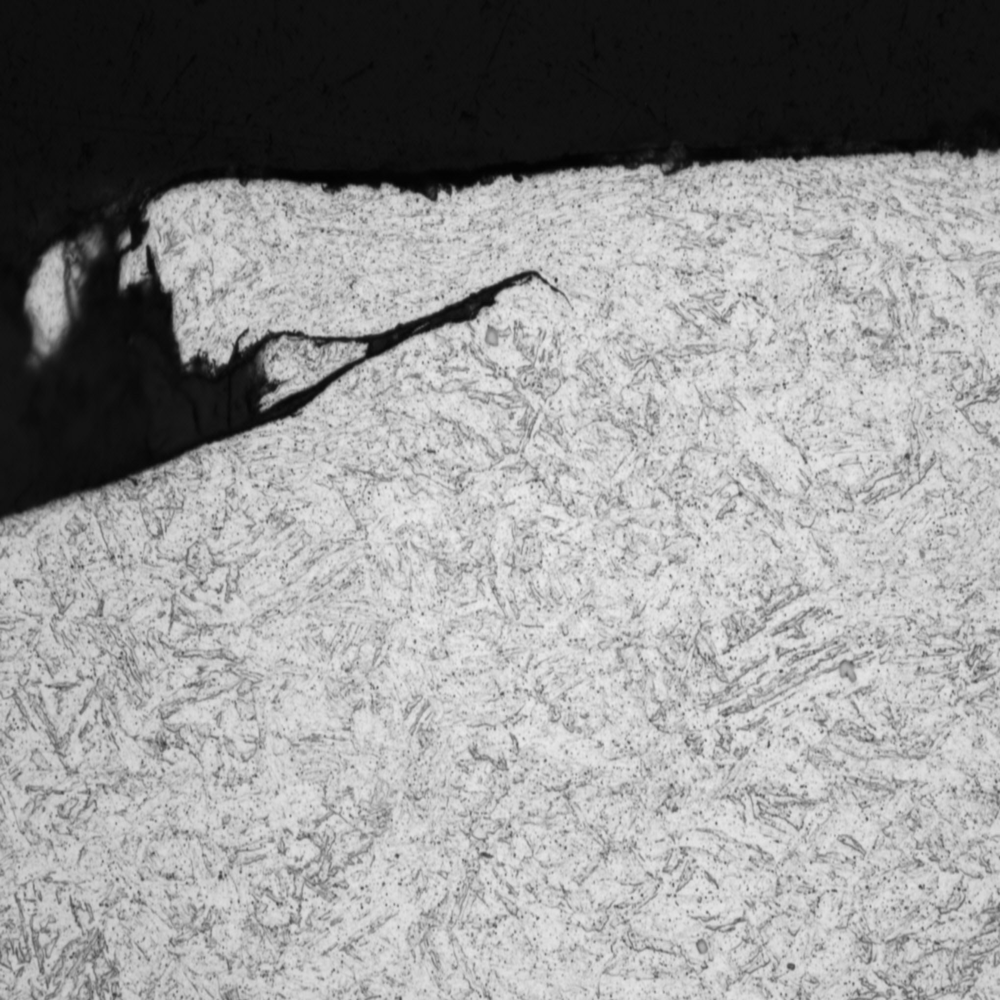crack: (202, 249, 582, 501)
